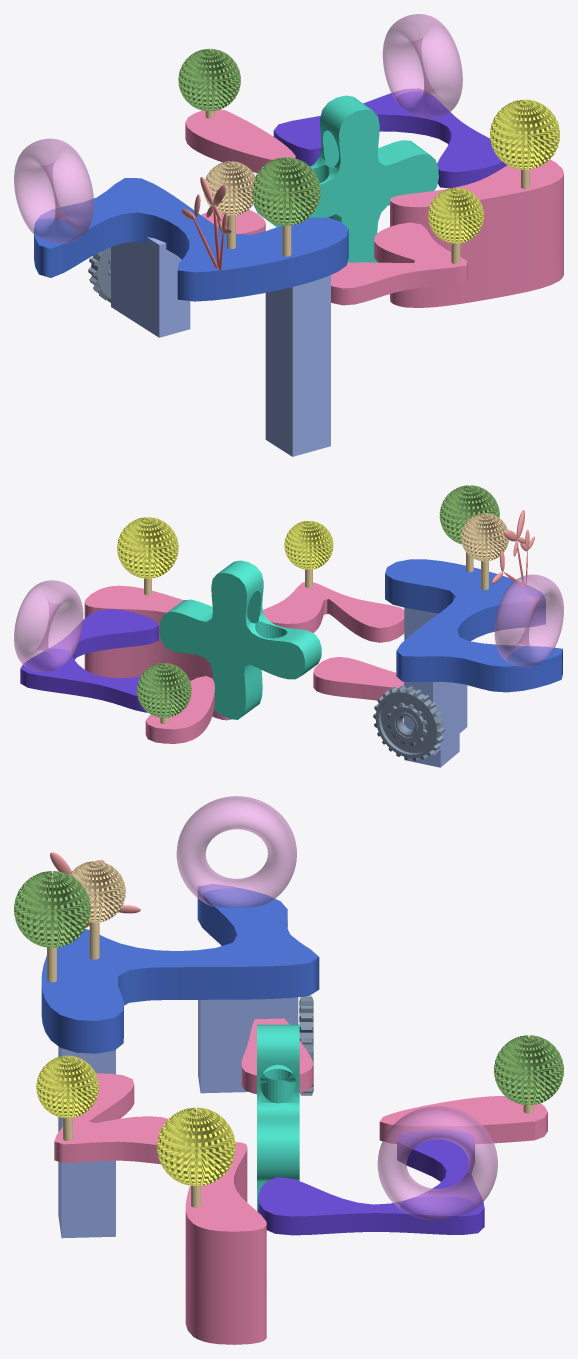
The picture shows the model from 3 angles, top to bottom: view 1: azimuth 30°, elevation 25°; view 2: azimuth 150°, elevation 25°; view 3: azimuth 270°, elevation 25°; orthographic projection. The views are drawn at different scales.
Parts seen in each view (by area): view 1: 物件_3.003, 物件_7.003, gear34_gears_0.001; view 2: 物件_3.003, 物件_7.003, gear34_gears_0.001; view 3: 物件_3.003, 物件_7.003, gear34_gears_0.001.
Part boxes in pixels (bbox=[...]): 物件_3.003: bbox=[14, 14, 563, 456]; 物件_7.003: bbox=[254, 95, 438, 262]; gear34_gears_0.001: bbox=[88, 247, 110, 302]; 物件_3.003: bbox=[14, 485, 563, 767]; 物件_7.003: bbox=[159, 560, 321, 719]; gear34_gears_0.001: bbox=[373, 685, 444, 760]; 物件_3.003: bbox=[14, 796, 563, 1344]; 物件_7.003: bbox=[257, 1024, 299, 1211]; gear34_gears_0.001: bbox=[299, 996, 313, 1095].
Size of the model in its own units: 3180 by 1733 by 2563.
